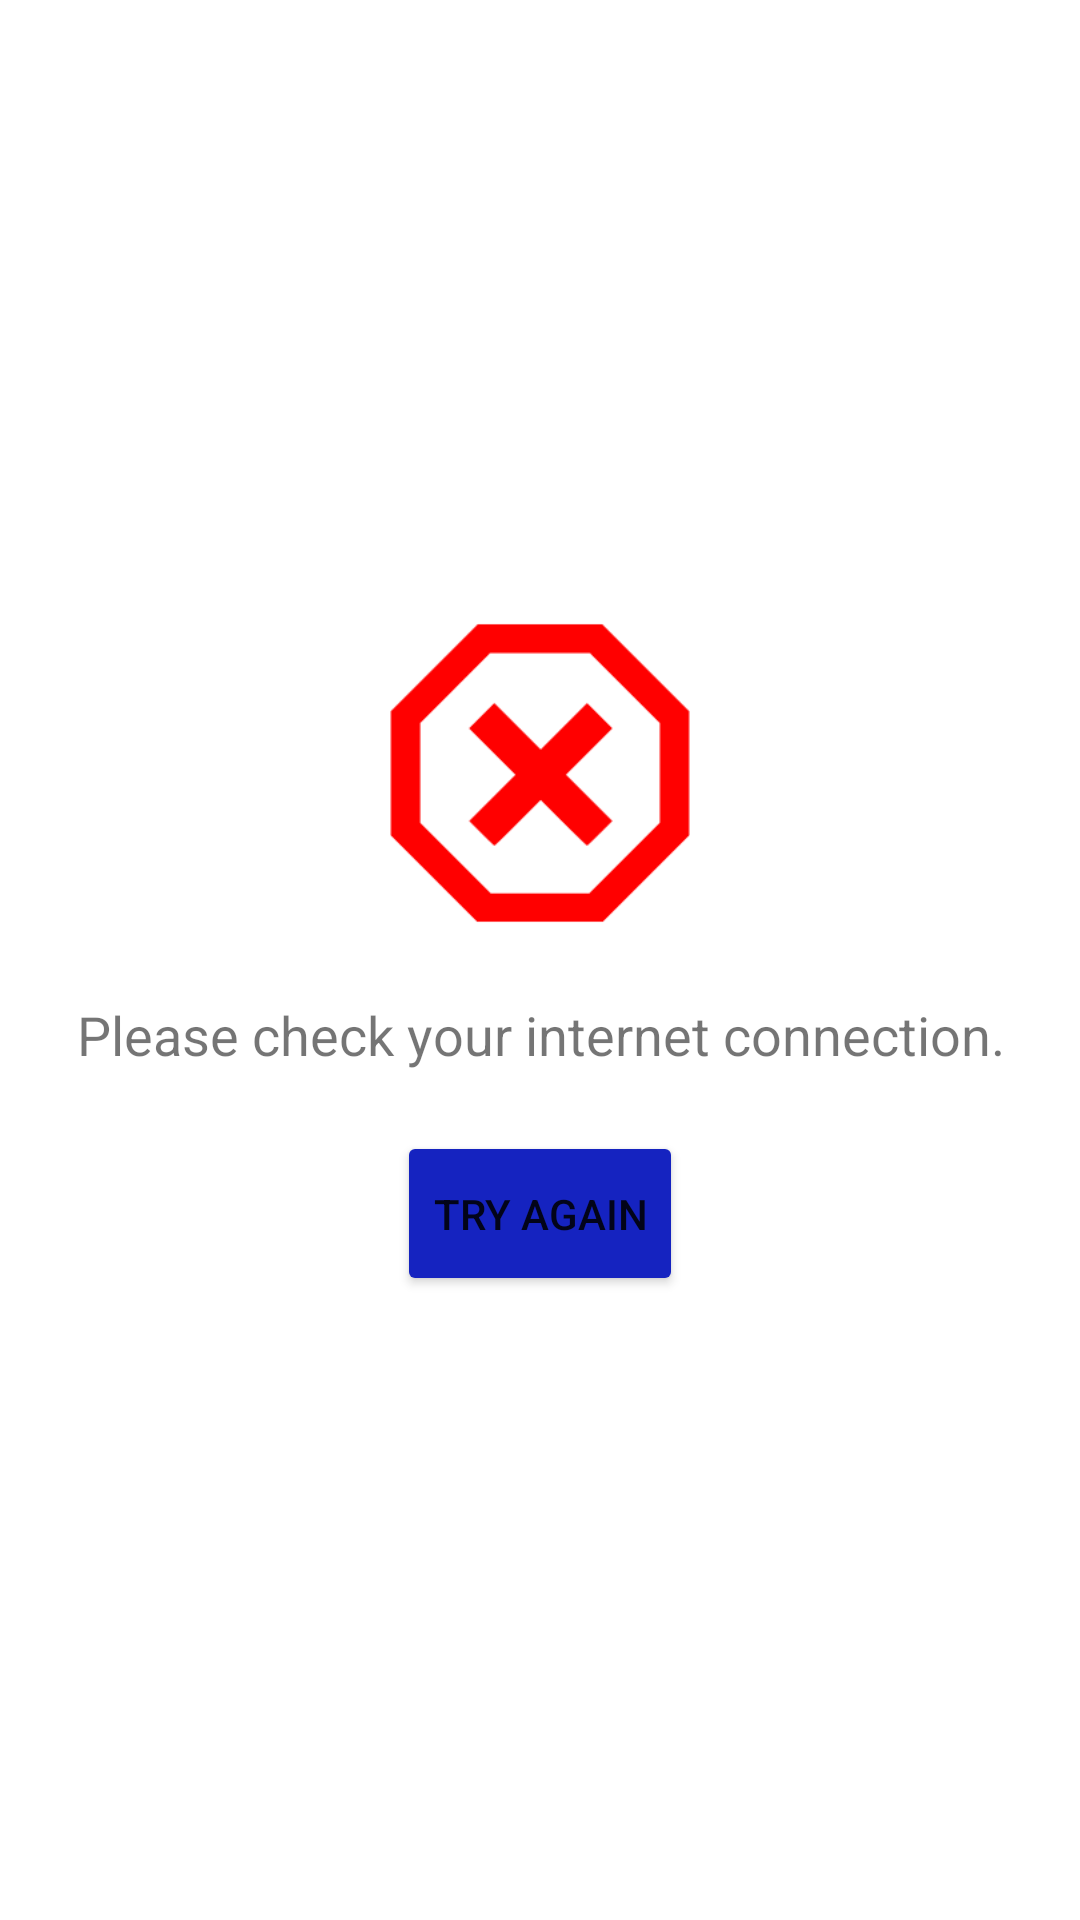

Icon click points for this 1080px×1920px phone screenshot, format point (x, y):
cross error: point (540, 773)
